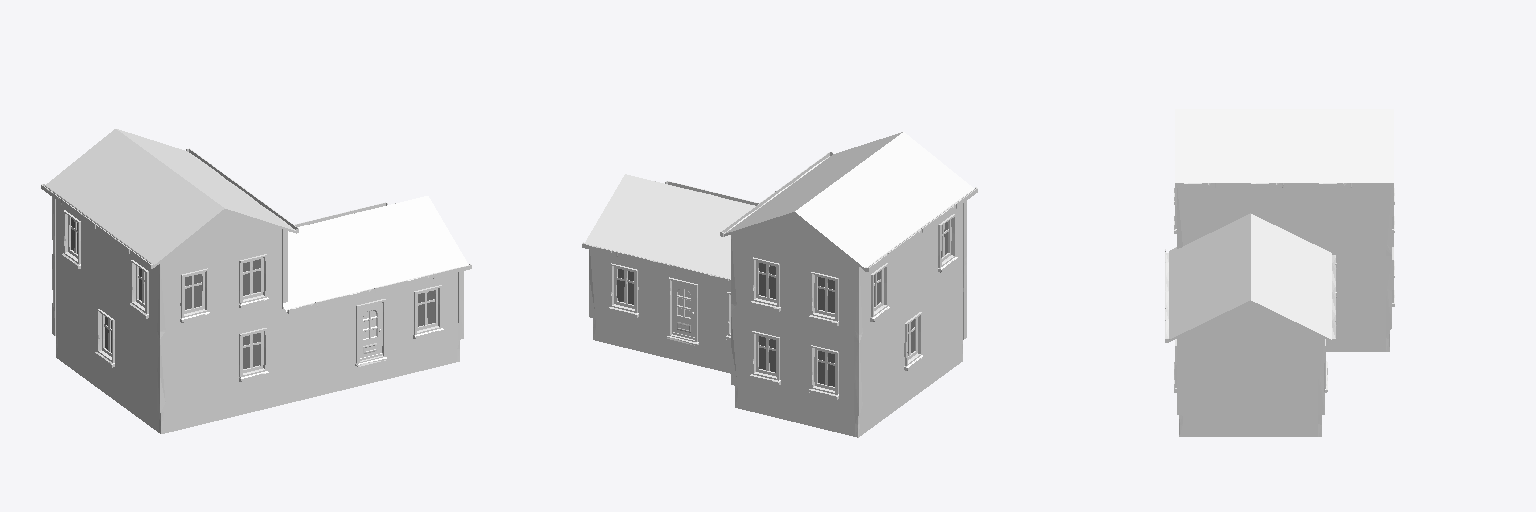
The model's file is SM_Bld_House_Preset_10_PB.obj.
The picture shows the model from 3 angles: view 1: azimuth 30°, elevation 25°; view 2: azimuth 150°, elevation 25°; view 3: azimuth 270°, elevation 25°; orthographic projection.
Parts seen in each view (by area): view 1: SM_Bld_House_Preset_10_PB; view 2: SM_Bld_House_Preset_10_PB; view 3: SM_Bld_House_Preset_10_PB.
Boxes of the visible parts, x1=… form: SM_Bld_House_Preset_10_PB: x1=41, y1=129, x2=471, y2=433; SM_Bld_House_Preset_10_PB: x1=582, y1=132, x2=977, y2=437; SM_Bld_House_Preset_10_PB: x1=1165, y1=109, x2=1394, y2=436.
Size of the model in its own units: 13.5 by 8.67 by 8.54.